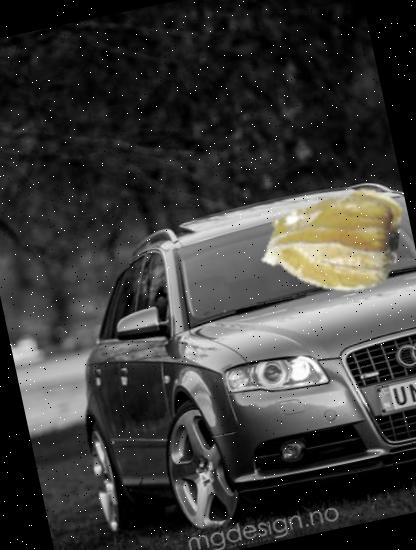Physalis: (251, 156, 411, 316)
